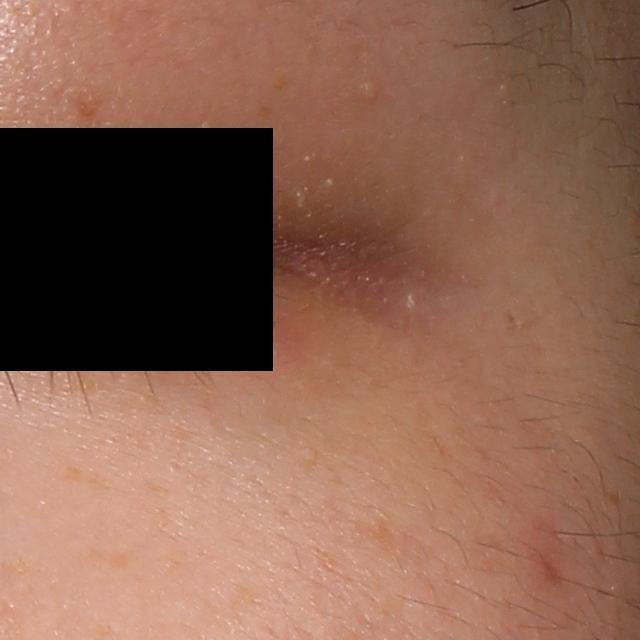melasma: (74, 86, 106, 124)
other: (356, 77, 384, 101), (405, 290, 419, 311), (324, 176, 336, 188)
